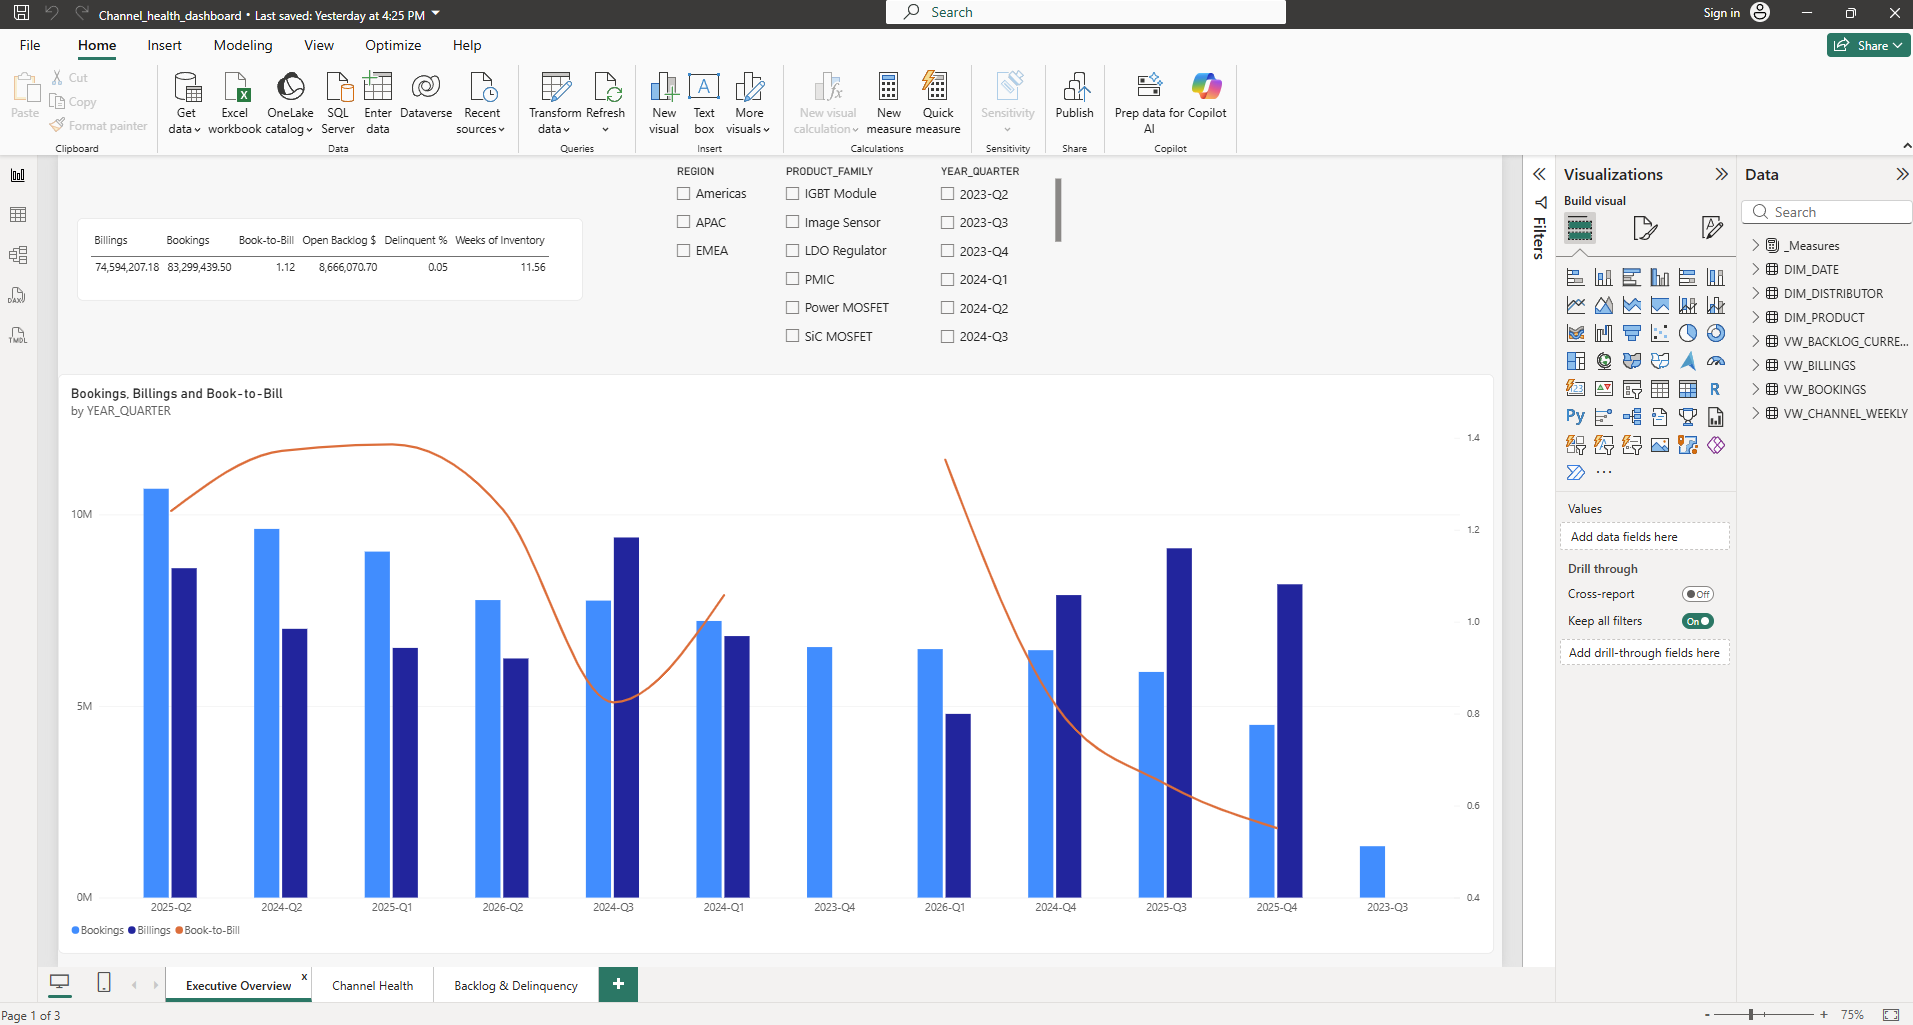

This screenshot's page, from the dashboard's own definition file:
{"tool":"powerbi","page":{"name":"Executive Overview","canvas":[1920,1080],"ordinal":0},"visuals":[{"type":"tableEx","fields":{"Values":["_Measures.Billings","_Measures.Bookings","_Measures.Book-to-Bill","_Measures.Open Backlog $","_Measures.Delinquent %","_Measures.Weeks of Inventory"]},"box":[25.3,83.8,673,110.4],"z":0},{"type":"lineClusteredColumnComboChart","fields":{"Category":["DIM_DATE.YEAR_QUARTER"],"Y":["_Measures.Bookings","_Measures.Billings"],"Y2":["_Measures.Book-to-Bill"]},"box":[0,291.3,1910,771.4],"z":1000},{"type":"slicer","fields":{"Values":["DIM_DISTRIBUTOR.REGION"]},"box":[815.3,13.3,118.4,139.7],"z":2000},{"type":"slicer","fields":{"Values":["DIM_DATE.YEAR_QUARTER"]},"box":[1166.5,13.3,167.6,251.4],"z":3000},{"type":"slicer","fields":{"Values":["DIM_PRODUCT.PRODUCT_FAMILY"]},"box":[960.3,13.3,186.2,251.4],"z":4000}]}

Visuals, with their boxes on the page's 1920x1080 design canvas (x1, y1, x2, y2). These are canvas units, not pixel positions in the 1913x1025 screenshot, which may show the page scaled, cropped or inside an application window:
tableEx - _Measures.Billings x _Measures.Bookings: <region>25, 84, 698, 194</region>
lineClusteredColumnComboChart - DIM_DATE.YEAR_QUARTER x _Measures.Bookings: <region>0, 291, 1910, 1063</region>
slicer - DIM_DISTRIBUTOR.REGION: <region>815, 13, 934, 153</region>
slicer - DIM_DATE.YEAR_QUARTER: <region>1166, 13, 1334, 265</region>
slicer - DIM_PRODUCT.PRODUCT_FAMILY: <region>960, 13, 1146, 265</region>
